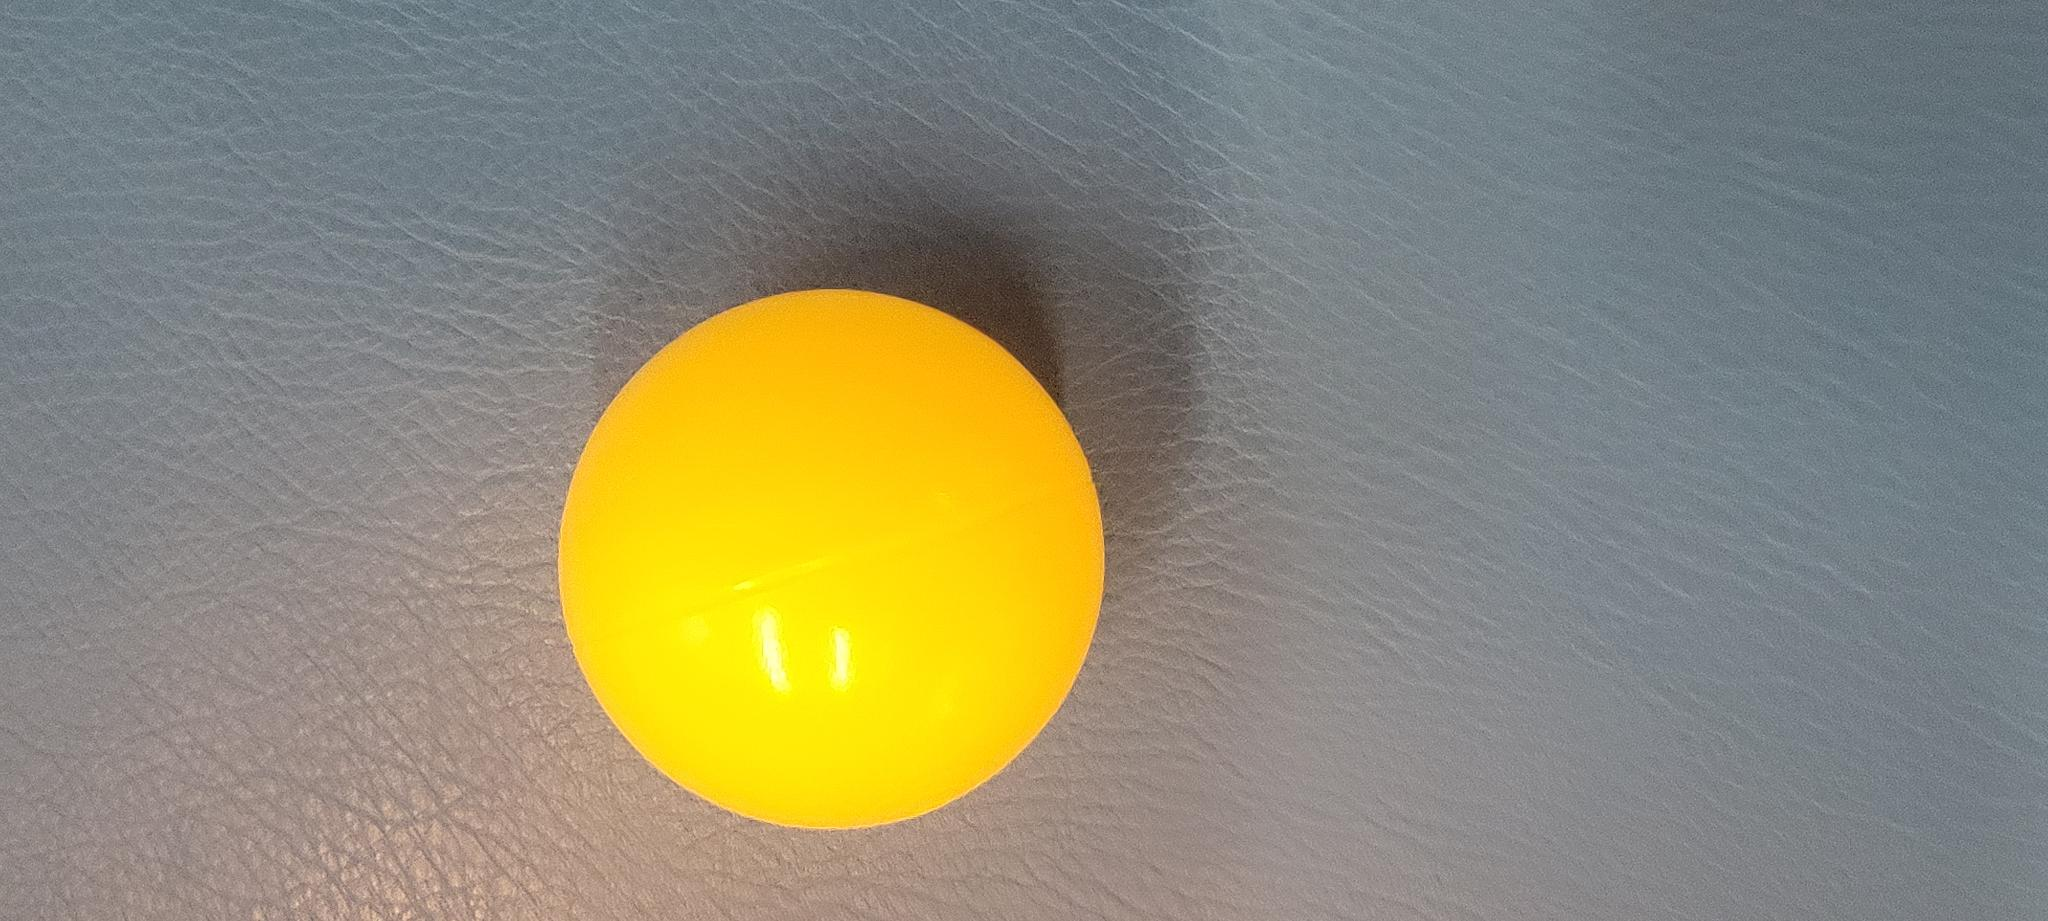Yellow-Ball: (95, 570, 633, 921)
